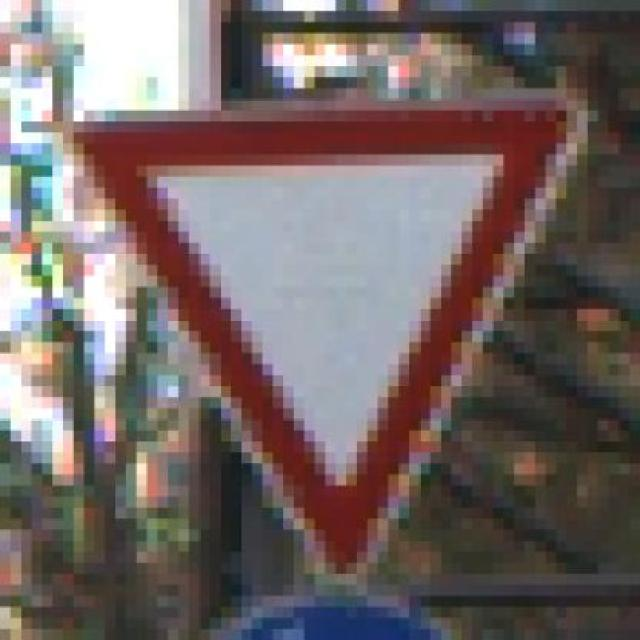Give Way: (41, 55, 598, 596)
